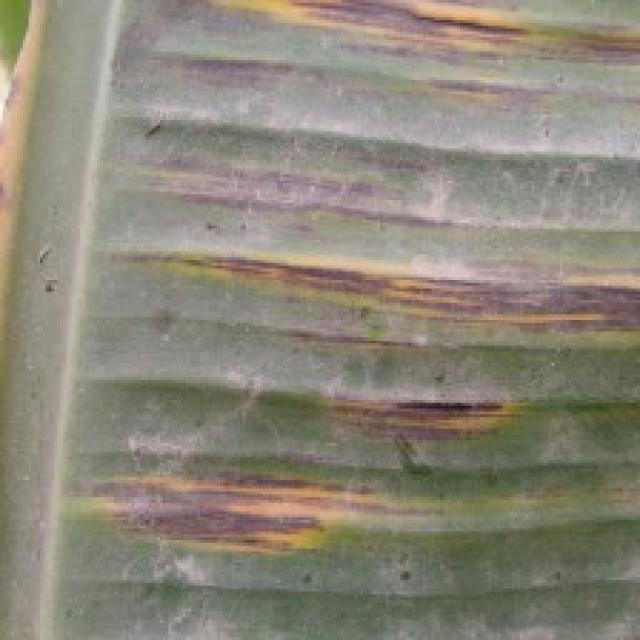Early_leaf_spot: (83, 152, 640, 372), (117, 0, 640, 117), (48, 454, 454, 570), (247, 369, 588, 449), (0, 0, 45, 291), (476, 449, 640, 523)
